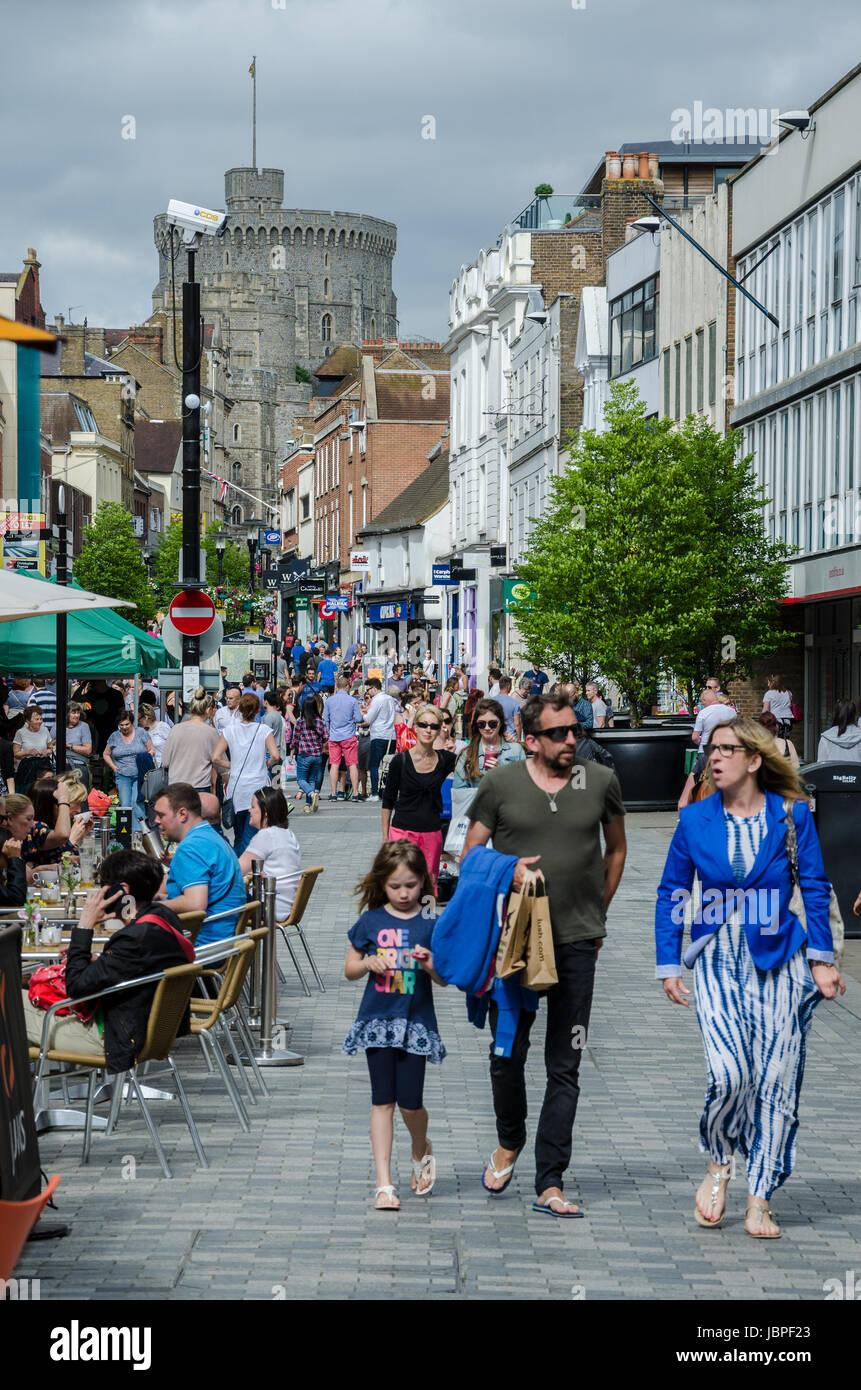Shorts: (362, 1035, 431, 1117), (329, 738, 358, 766)
dress: (342, 900, 452, 1065)
jacket: (649, 782, 842, 981), (67, 903, 192, 1069)
long sleeve shirt: (379, 747, 463, 834), (290, 717, 329, 757), (365, 694, 397, 740)
short sleeve shirt: (462, 752, 624, 949), (165, 815, 246, 953), (240, 826, 306, 921), (221, 722, 275, 810), (105, 724, 156, 781), (688, 704, 735, 752), (50, 720, 91, 756), (9, 724, 52, 757), (316, 659, 338, 688), (591, 698, 606, 730)
sweater: (160, 721, 228, 788)
trousers: (482, 934, 605, 1189), (5, 988, 112, 1058), (387, 823, 441, 900), (370, 736, 397, 795), (294, 752, 324, 805)
